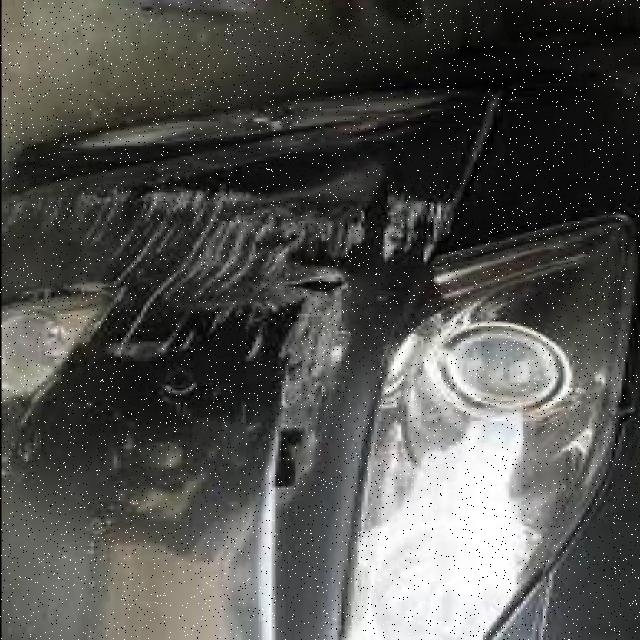damage: (0, 178, 457, 496)
